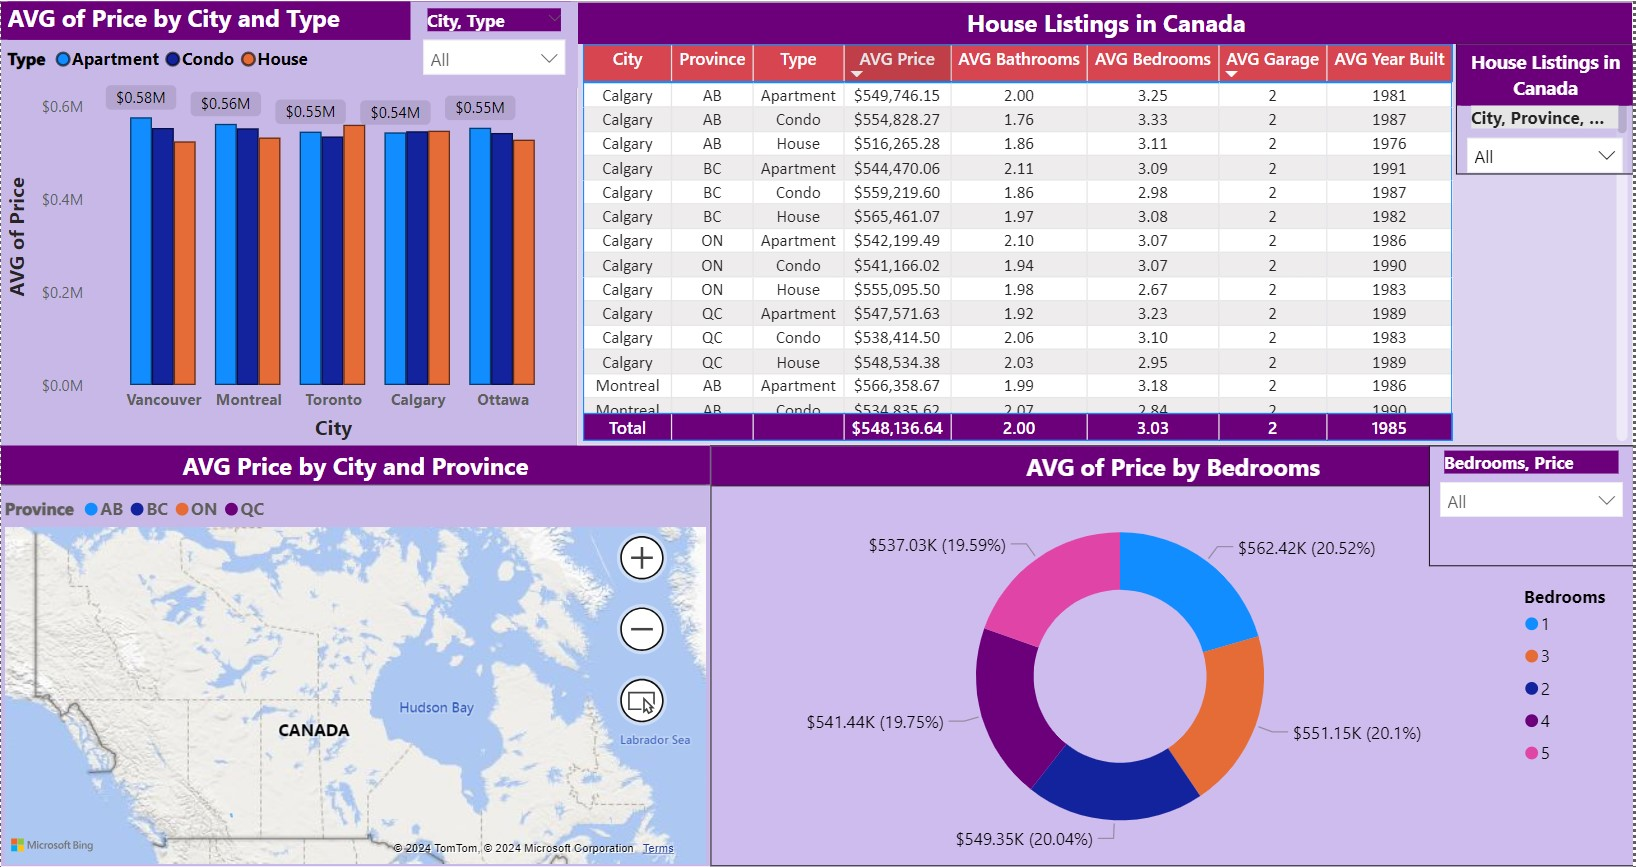

What the dashboard file says about the page in this screenshot:
{"tool":"powerbi","page":{"name":"Page 1","canvas":[1280,720],"ordinal":0},"visuals":[{"type":"clusteredColumnChart","fields":{"Category":["Query1.City"],"Y":["Avg(Query1.Price)"],"Series":["Query1.Type"]},"box":[0,41,451.8,348.8],"z":0},{"type":"tableEx","title":"House Listings in Canada","fields":{"Values":["Query1.City","Query1.Province","Query1.Type","Avg(Query1.Price)","Avg(Query1.Bathrooms)","Avg(Query1.Bedrooms)","Query1.Garage","Median(Query1.Year_Built)"]},"box":[451.8,41,828.6,348.8],"z":1000},{"type":"actionButton","box":[0,0,100,40],"z":2000},{"type":"filledMap","title":" AVG Price by City and Province","fields":{"Category":["Query1.City"],"Series":["Query1.Province"]},"box":[0,389.7,555.9,330],"z":3000},{"type":"donutChart","fields":{"Category":["Query1.Bedrooms"],"Y":["Avg(Query1.Price)"]},"box":[555.9,389.7,724.5,330],"z":4000},{"type":"slicer","fields":{"Values":["Query1.Bedrooms","Query1.Price"]},"box":[1120.1,389.7,160.3,94.8],"z":5000},{"type":"slicer","title":"House Listings in Canada","fields":{"Values":["Query1.City","Query1.Province","Query1.Type"]},"box":[1141.1,73.7,139.3,103],"z":6000},{"type":"slicer","fields":{"Values":["Query1.City","Query1.Type"]},"box":[320.7,41,131.1,67.9],"z":7000}]}

Visuals, with their boxes in screenshot pixels (x1, y1, x2, y2):
clusteredColumnChart - Query1.City x Avg(Query1.Price): {"left": 0, "top": 0, "right": 574, "bottom": 443}
"House Listings in Canada" tableEx: {"left": 574, "top": 0, "right": 1634, "bottom": 443}
" AVG Price by City and Province" filledMap: {"left": 0, "top": 443, "right": 707, "bottom": 866}
donutChart - Query1.Bedrooms x Avg(Query1.Price): {"left": 707, "top": 443, "right": 1634, "bottom": 866}
slicer - Query1.Bedrooms x Query1.Price: {"left": 1429, "top": 443, "right": 1634, "bottom": 565}
"House Listings in Canada" slicer: {"left": 1456, "top": 39, "right": 1634, "bottom": 171}
slicer - Query1.City x Query1.Type: {"left": 406, "top": 0, "right": 574, "bottom": 84}
